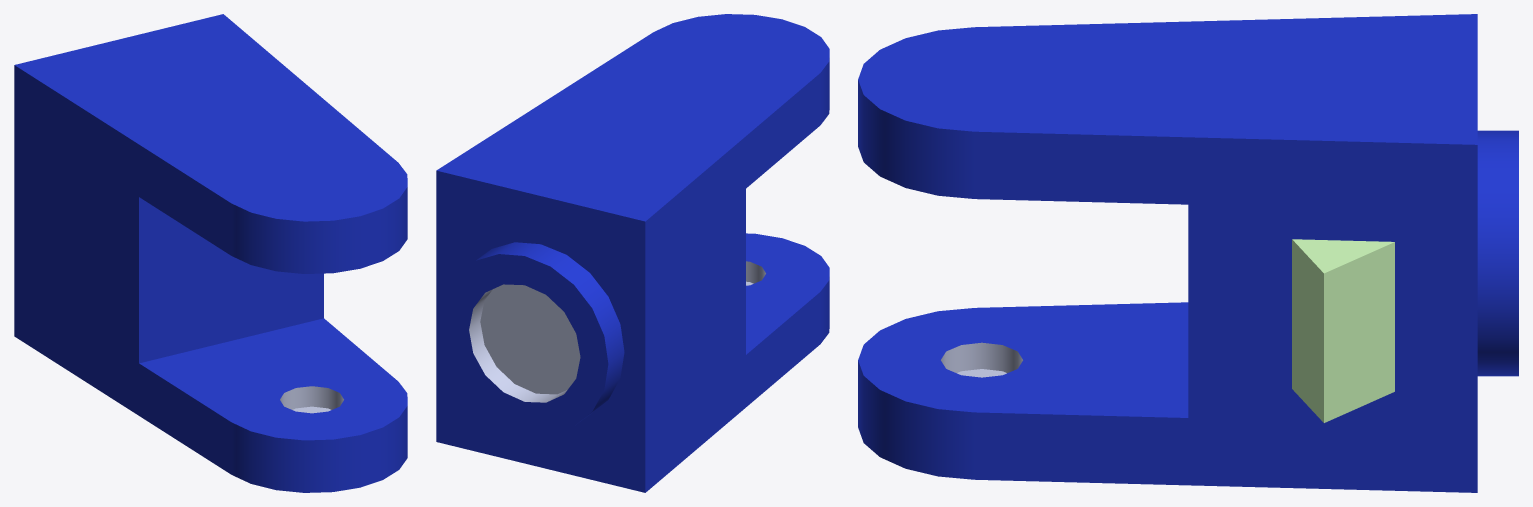
The picture shows the model from 3 angles, left to right: view 1: azimuth 30°, elevation 25°; view 2: azimuth 150°, elevation 25°; view 3: azimuth 270°, elevation 25°; orthographic projection. The views are drawn at different scales.
Parts seen in each view (by area): view 1: mesh 2 link4, mesh 1 link4; view 2: mesh 2 link4, mesh 1 link4; view 3: mesh 2 link4, mesh 3 link4, mesh 1 link4.
Part boxes in pixels (left/top/right/bottom): mesh 2 link4: left=14, top=14, right=407, bottom=492; mesh 1 link4: left=280, top=386, right=343, bottom=413; mesh 2 link4: left=436, top=14, right=829, bottom=492; mesh 1 link4: left=469, top=261, right=765, bottom=402; mesh 2 link4: left=858, top=14, right=1518, bottom=492; mesh 3 link4: left=1292, top=239, right=1394, bottom=422; mesh 1 link4: left=941, top=342, right=1022, bottom=377.
Bounding box in the file's own units: 0.0919 × 0.093 × 0.16.
